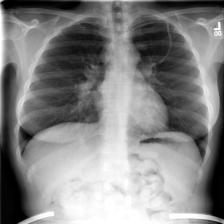normal: (17, 14, 212, 171)
